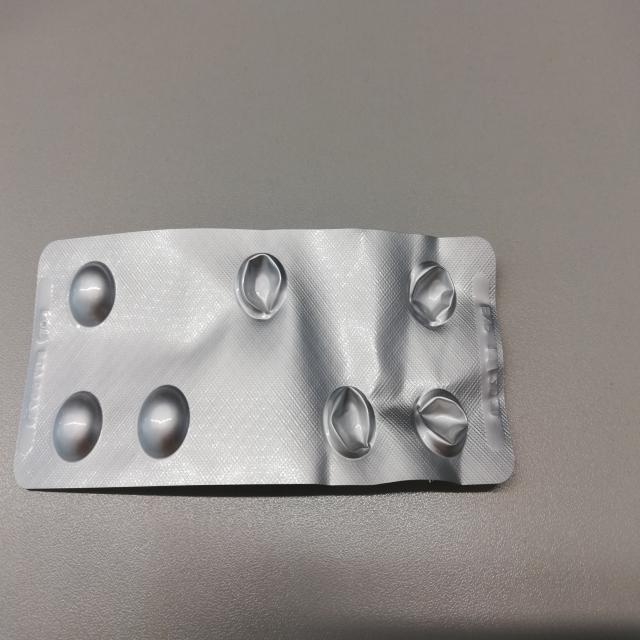Empty: (409, 382, 473, 462), (319, 380, 379, 462), (402, 254, 460, 334), (234, 248, 292, 326)
Pill: (133, 381, 193, 463), (49, 387, 106, 465), (66, 258, 118, 330)
